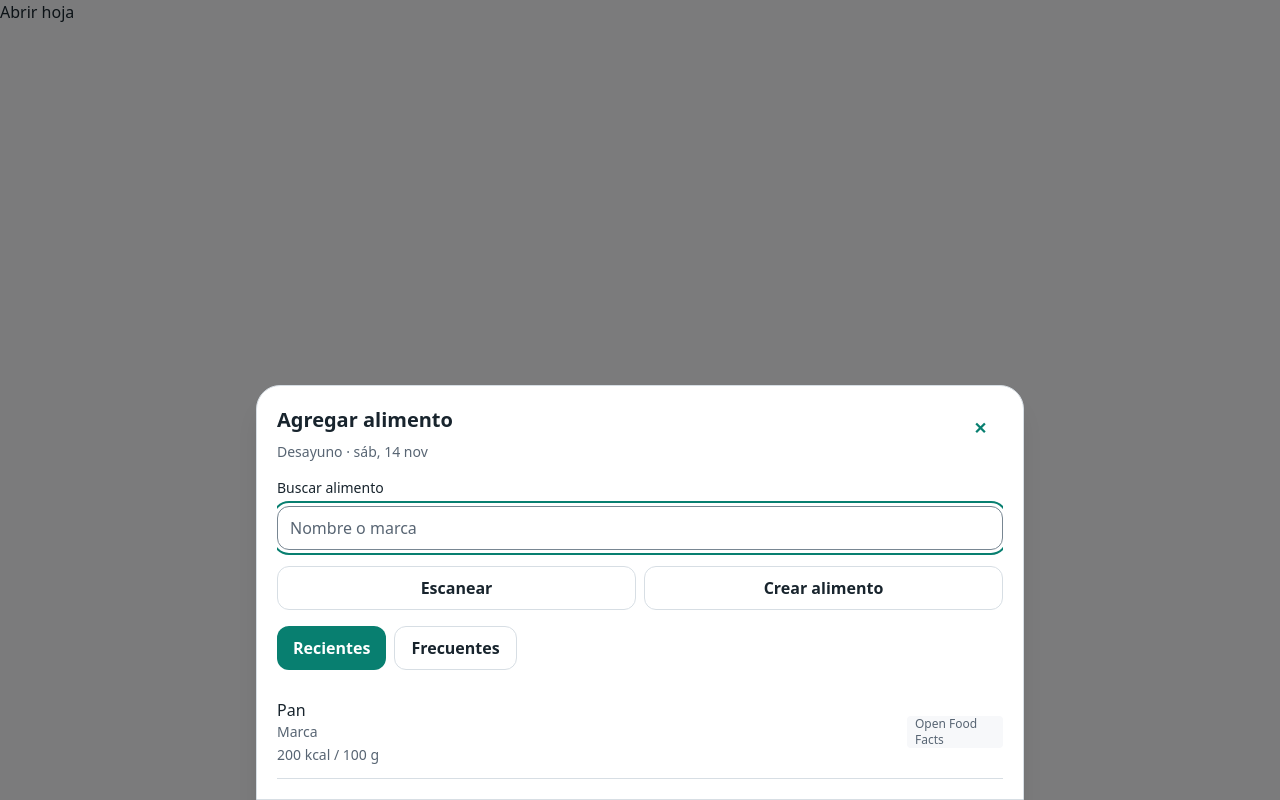
si importar falla mantiene la búsqueda y permite volver a intentar
Click the text "Pan": (291, 710) [277, 699, 306, 721]
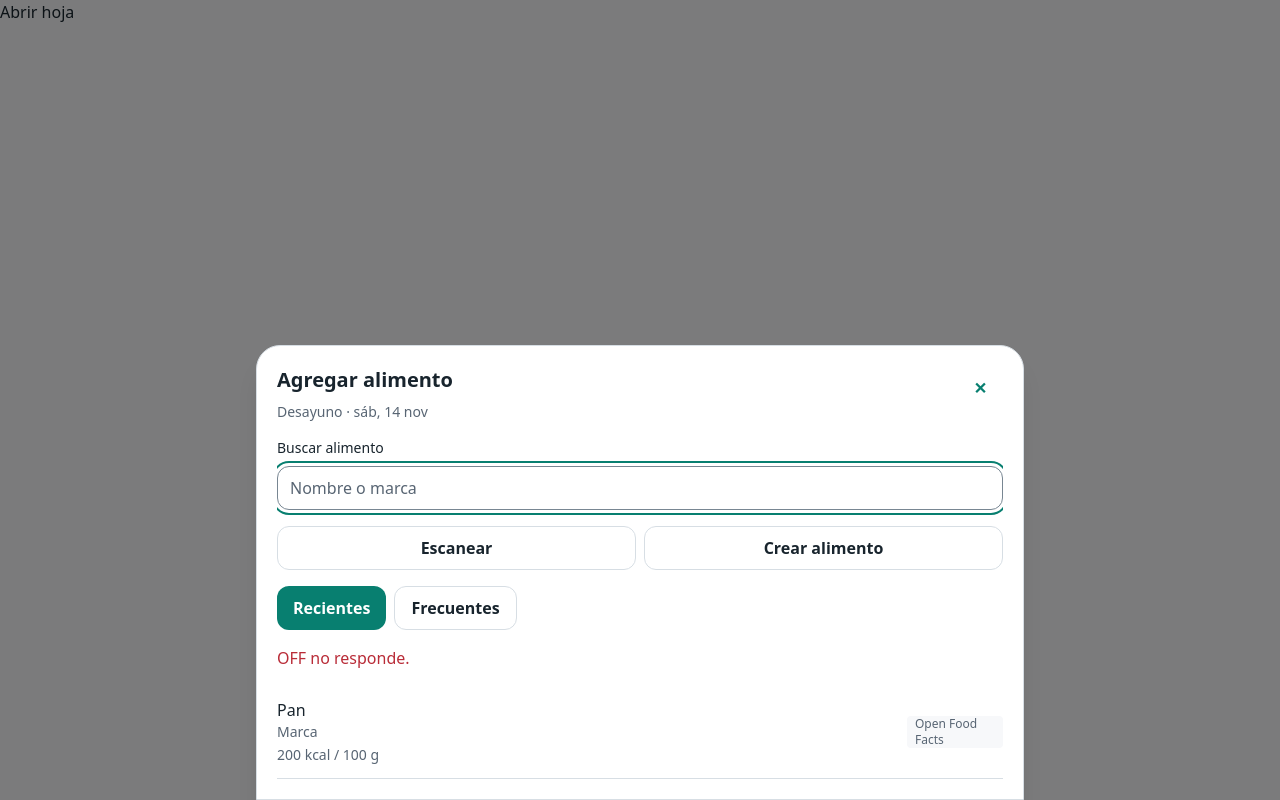
Expected: the field labelled "Buscar alimento" is shown, [277, 466, 1003, 510]
Result: the text "OFF no responde." is shown at [277, 647, 410, 669]
